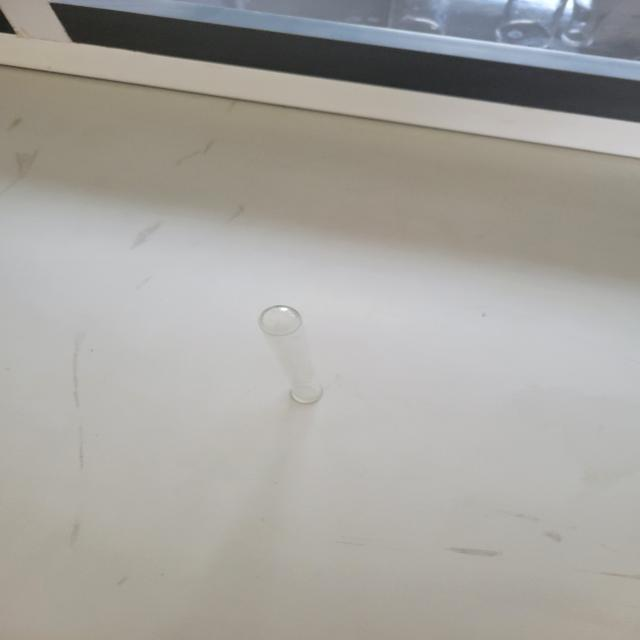Test_Tube: (234, 270, 364, 433)
